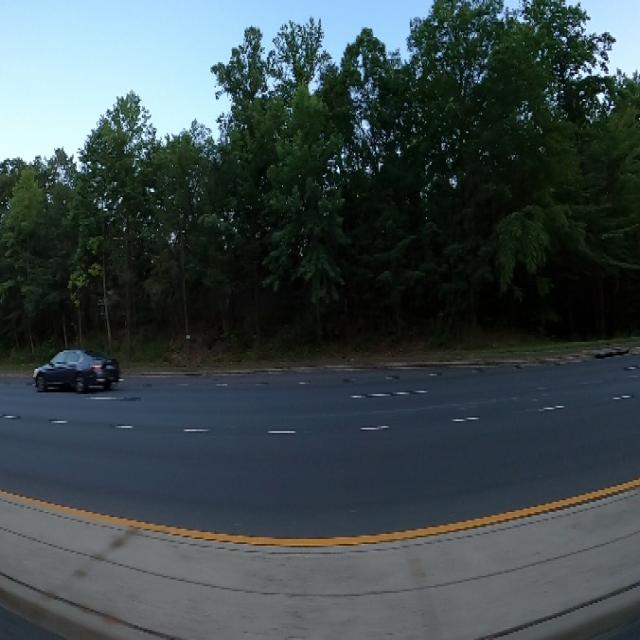cars: (28, 328, 122, 403)
